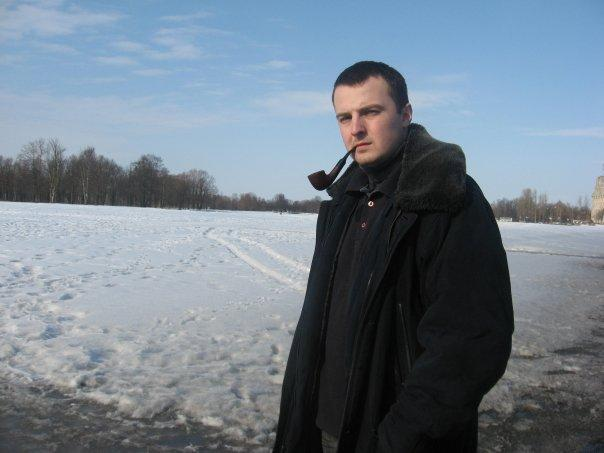trubka: (309, 146, 357, 190)
